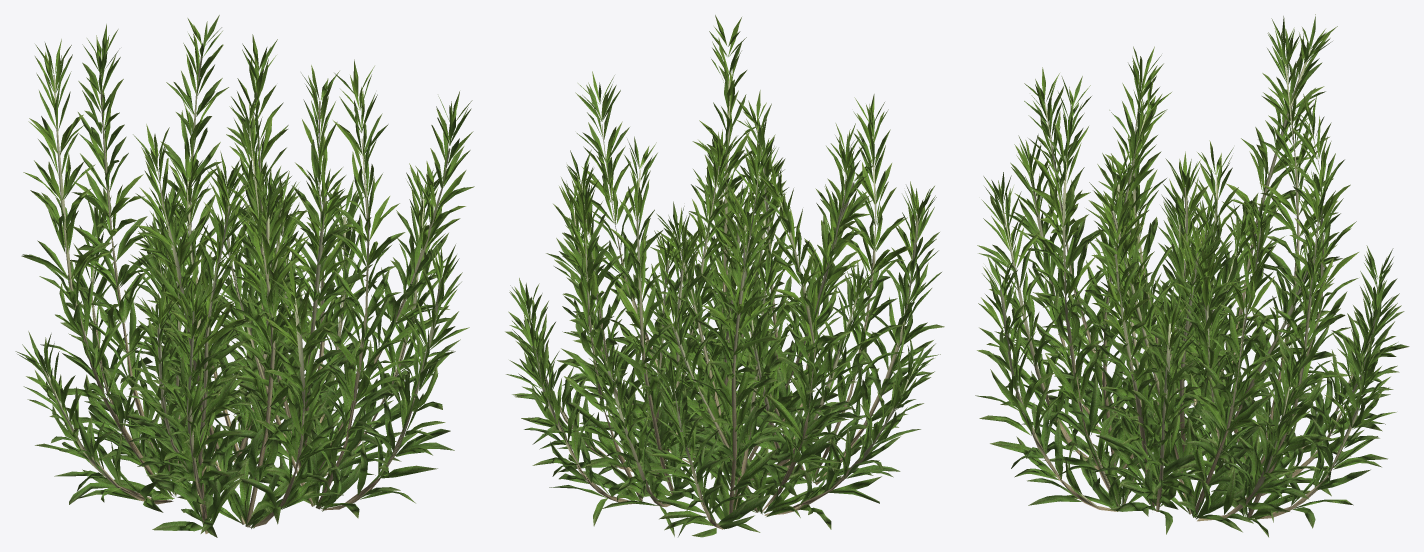
The model's file is rosemary.glb.
3 renders of one model, left to right at view 1: azimuth 30°, elevation 25°; view 2: azimuth 150°, elevation 25°; view 3: azimuth 270°, elevation 25°, orthographic. The views are drawn at different scales.
Parts seen in each view (by area): view 1: 3DGeom~18 (C-3DGeom~18_Defintion#1), 3DGeom~15 (C-3DGeom~15_Defintion#1), 3DGeom~17 (C-3DGeom~17_Defintion#1), 3DGeom~16 (C-3DGeom~16_Defintion#1), 3DGeom~14 (C-3DGeom~14_Defintion); view 2: 3DGeom~18 (C-3DGeom~18_Defintion#1), 3DGeom~15 (C-3DGeom~15_Defintion#1), 3DGeom~17 (C-3DGeom~17_Defintion#1), 3DGeom~16 (C-3DGeom~16_Defintion#1), 3DGeom~14 (C-3DGeom~14_Defintion); view 3: 3DGeom~18 (C-3DGeom~18_Defintion#1), 3DGeom~15 (C-3DGeom~15_Defintion#1), 3DGeom~17 (C-3DGeom~17_Defintion#1), 3DGeom~16 (C-3DGeom~16_Defintion#1), 3DGeom~14 (C-3DGeom~14_Defintion).
Boxes of the visible parts, x1,y1,x2,y2 form: 3DGeom~18 (C-3DGeom~18_Defintion#1): (15, 15, 474, 461); 3DGeom~15 (C-3DGeom~15_Defintion#1): (17, 166, 460, 537); 3DGeom~17 (C-3DGeom~17_Defintion#1): (23, 18, 473, 357); 3DGeom~16 (C-3DGeom~16_Defintion#1): (51, 291, 454, 533); 3DGeom~14 (C-3DGeom~14_Defintion): (42, 55, 450, 533); 3DGeom~18 (C-3DGeom~18_Defintion#1): (506, 31, 940, 463); 3DGeom~15 (C-3DGeom~15_Defintion#1): (505, 185, 944, 537); 3DGeom~17 (C-3DGeom~17_Defintion#1): (553, 15, 935, 344); 3DGeom~16 (C-3DGeom~16_Defintion#1): (524, 315, 920, 529); 3DGeom~14 (C-3DGeom~14_Defintion): (527, 80, 919, 529); 3DGeom~18 (C-3DGeom~18_Defintion#1): (977, 14, 1399, 458); 3DGeom~15 (C-3DGeom~15_Defintion#1): (975, 190, 1409, 522); 3DGeom~17 (C-3DGeom~17_Defintion#1): (978, 18, 1358, 350); 3DGeom~16 (C-3DGeom~16_Defintion#1): (1011, 293, 1393, 537); 3DGeom~14 (C-3DGeom~14_Defintion): (1000, 50, 1377, 521).
Bounding box in the file's own units: 0.2258 × 0.2344 × 0.2095.
5 materials, 5 textured.
